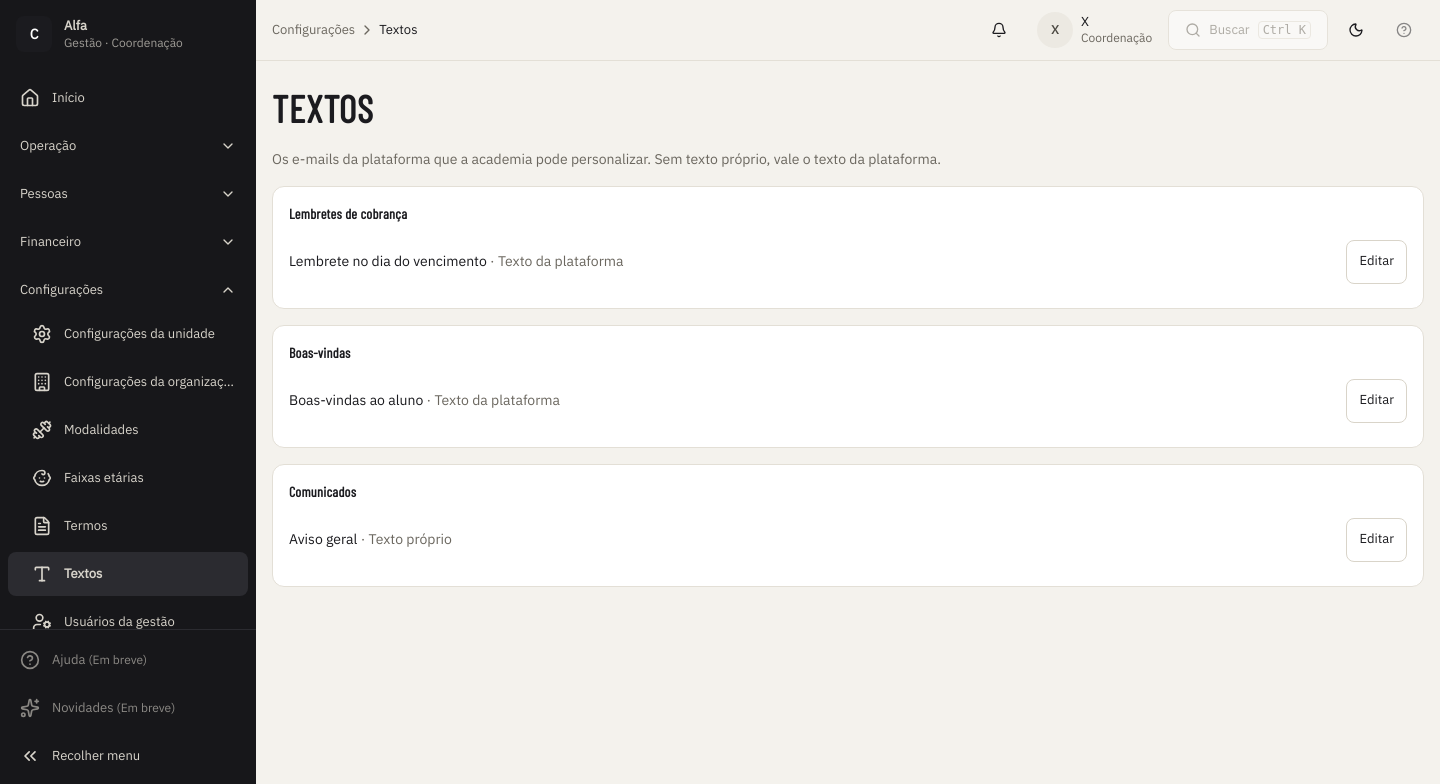
Test case: TextsPage › CA14: abre o editor com a prévia, que muda ao digitar; clicar num campo o insere; Salvar envia o PUT e confirma
Click the button "Editar" in the row of "Lembrete no dia do vencimento" at {"x": 1377, "y": 262}, box [1346,240,1407,284]
(page scrolled)
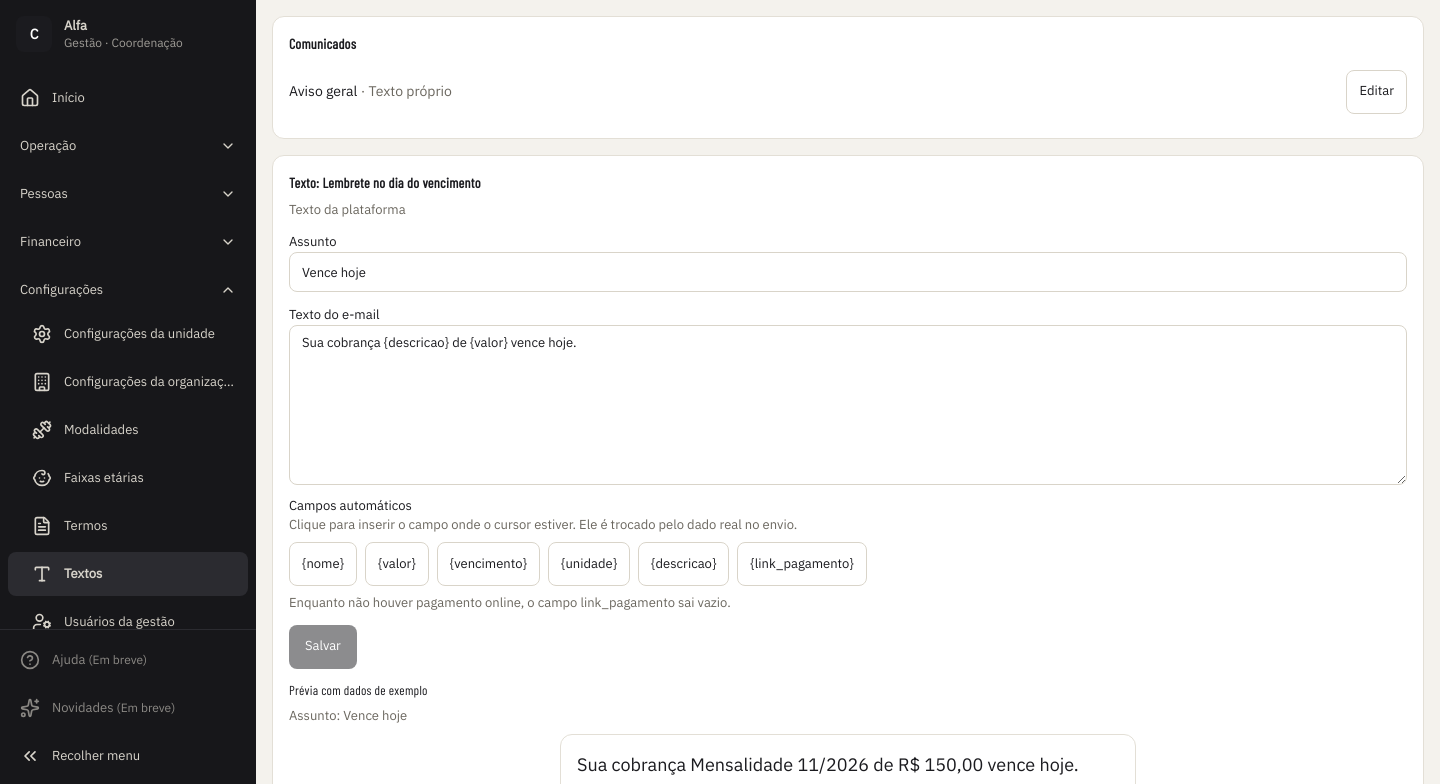
Now the text box labelled "Texto do e-mail" holds "Sua cobrança {descricao} de {valor} vence hoje."
Now the element "Prévia com dados de exemplo" shows "Sua cobrança Mensalidade 11/2026 de R$ 150,00 vence hoje.", box [577,753,1079,776]
Now the button "Salvar" is disabled, box [289,625,357,669]
Replace the text in the text box labelled "Texto do e-mail" with "Oi " at {"x": 848, "y": 405}, box [289,325,1407,485]
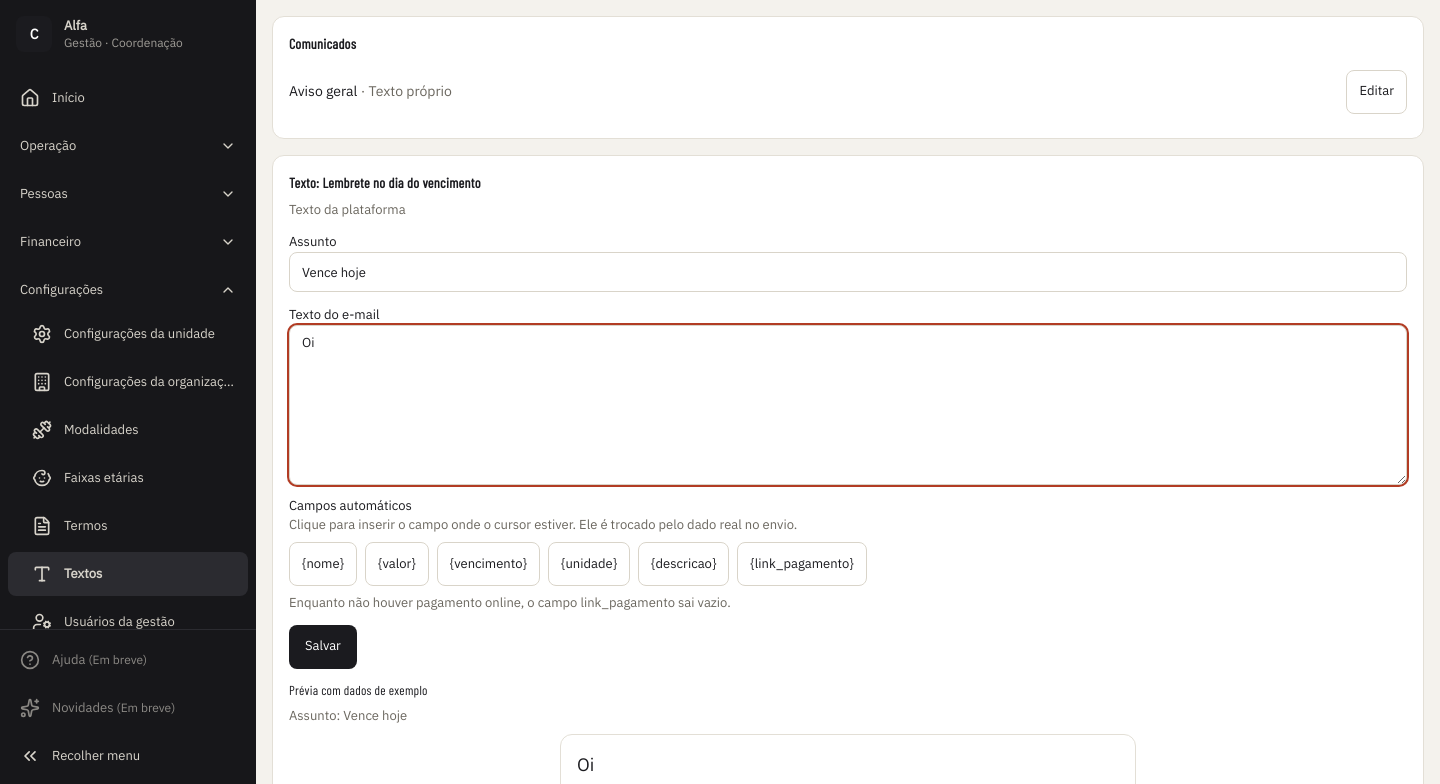
Click the button with aria-label "Inserir o campo nome" at {"x": 323, "y": 564}, box [289,542,357,586]
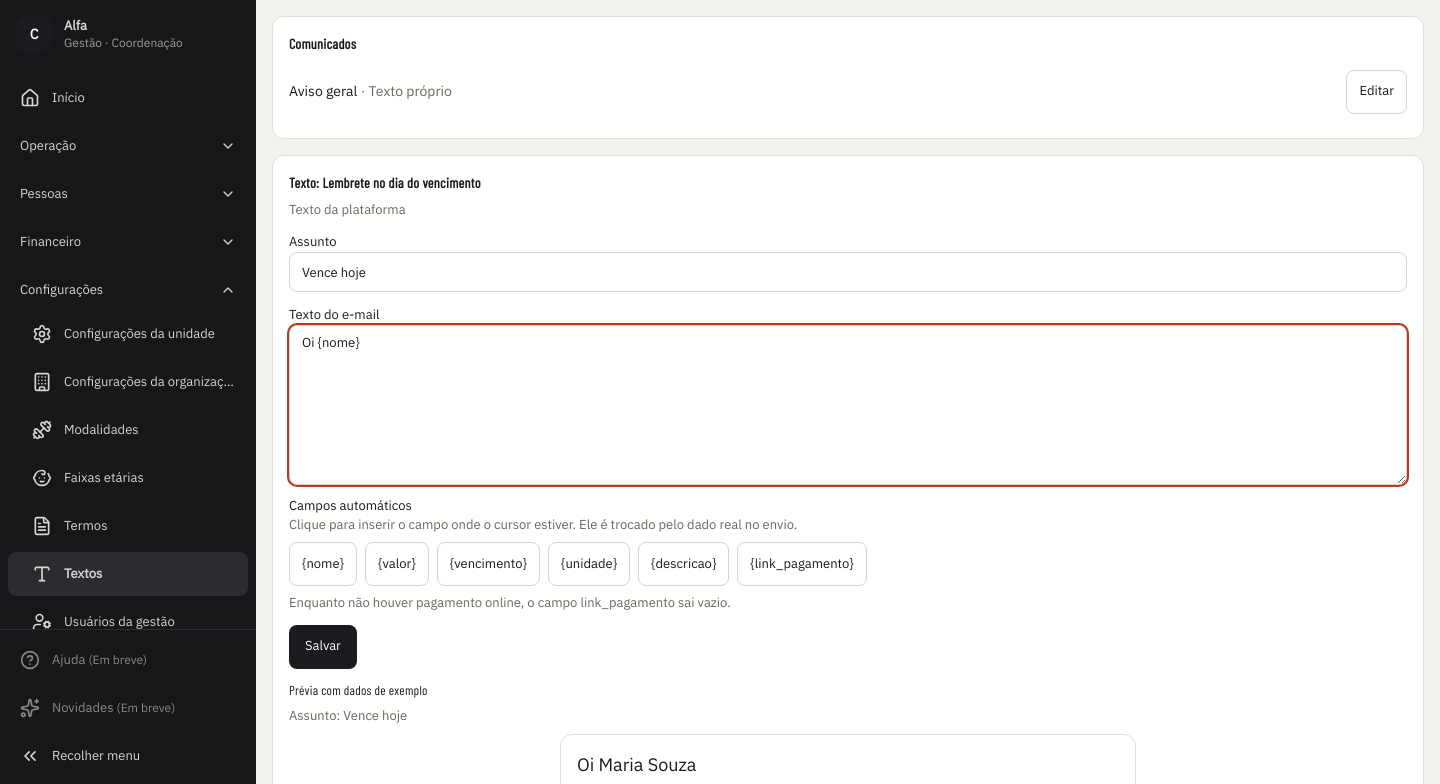
Now the text box labelled "Texto do e-mail" holds "Oi {nome}", box [289,325,1407,485]
Now the element "Prévia com dados de exemplo" shows "Oi Maria Souza", box [577,753,696,776]
Click the button "Salvar" at {"x": 323, "y": 647}, box [289,625,357,669]
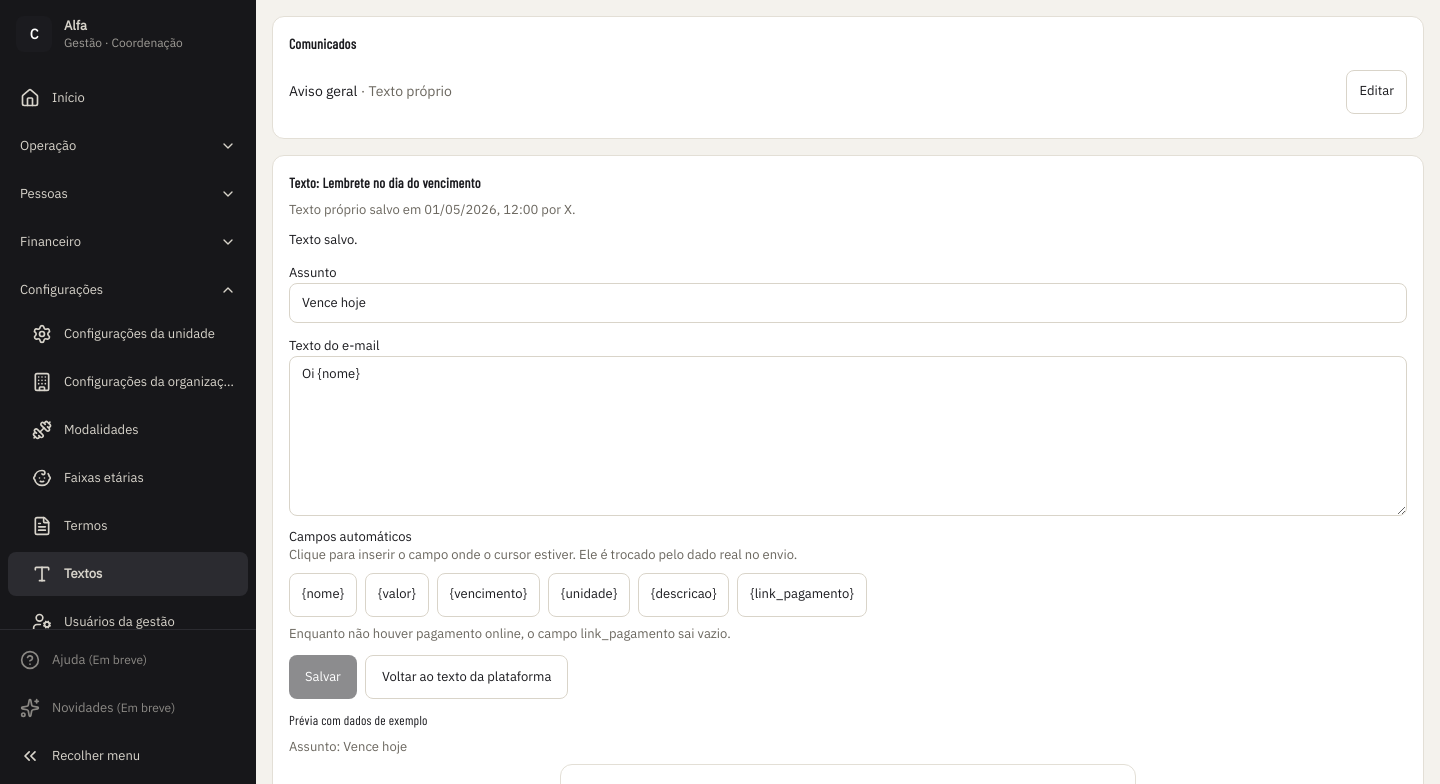
Now the text "Texto salvo." is shown, box [289,231,358,248]
Now the button "Salvar" is disabled, box [289,655,357,699]
